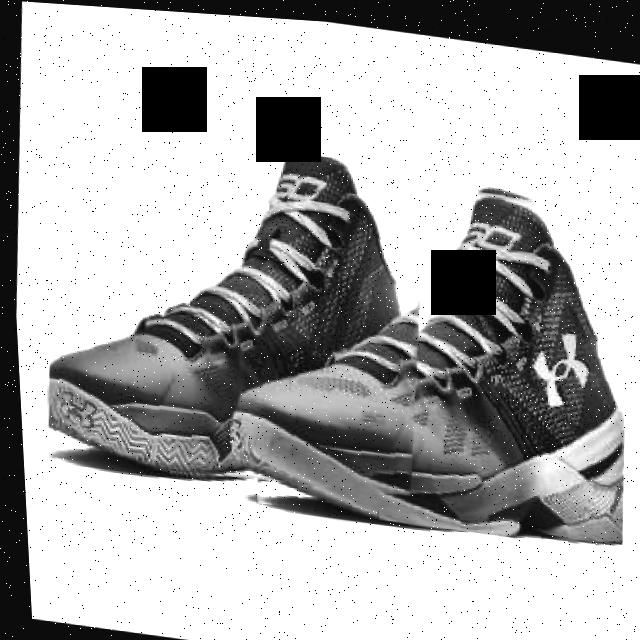shoe: (222, 146, 640, 545), (28, 118, 438, 503)
